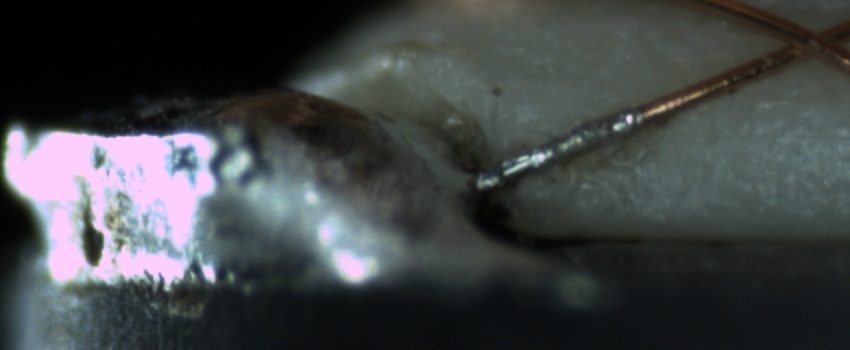CL: (761, 12, 847, 72)
TS: (461, 109, 645, 192)
TTCW: (471, 89, 717, 190)
